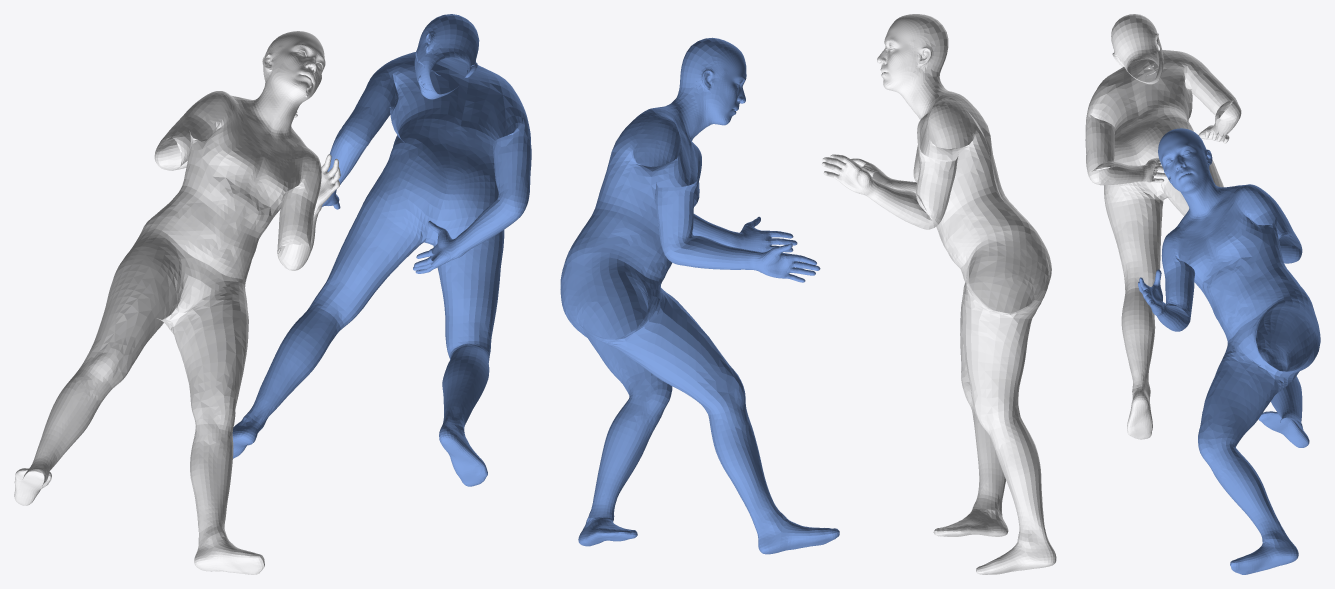
Rendered from double-leg-1-stance.glb.
The picture shows the model from 3 angles, left to right: view 1: azimuth 30°, elevation 25°; view 2: azimuth 150°, elevation 25°; view 3: azimuth 270°, elevation 25°; orthographic projection. The views are drawn at different scales.
Visible parts, largest first — view 1: p0, p1; view 2: p1, p0; view 3: p1, p0.
Part boxes in pixels (x1,y1,x2,y2): p0: (14,31,340,574); p1: (232,14,531,486); p1: (560,37,839,554); p0: (822,14,1056,574); p1: (1138,128,1320,574); p0: (1085,14,1241,439).
Size of the model in its own units: 1.63 by 1.74 by 0.8148.
